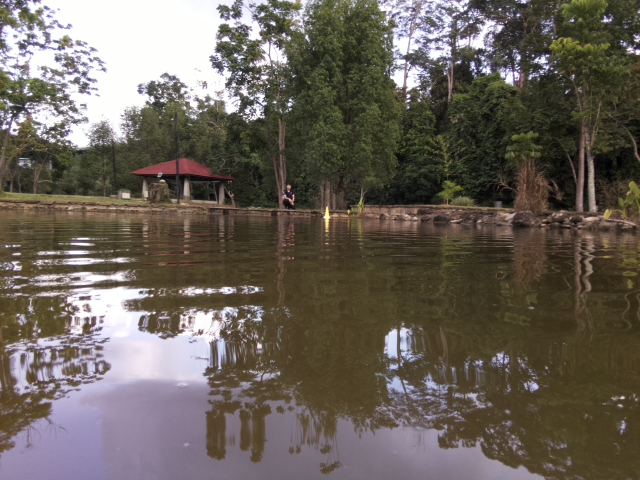checkpoint: (321, 205, 331, 219)
